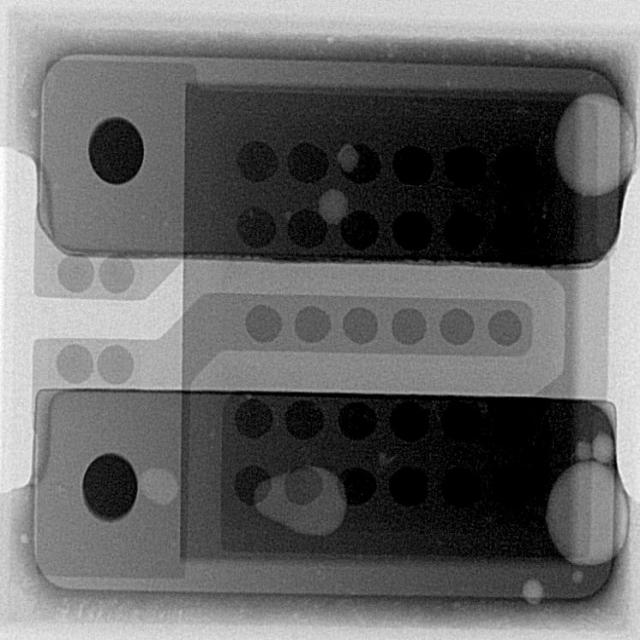component: (40, 57, 623, 266), (35, 390, 615, 599)
void: (547, 462, 617, 566), (556, 92, 622, 196), (256, 467, 347, 537), (139, 468, 179, 506), (319, 189, 349, 224), (594, 434, 616, 465), (338, 143, 360, 172), (523, 579, 546, 606), (576, 441, 593, 462), (573, 571, 585, 585)
